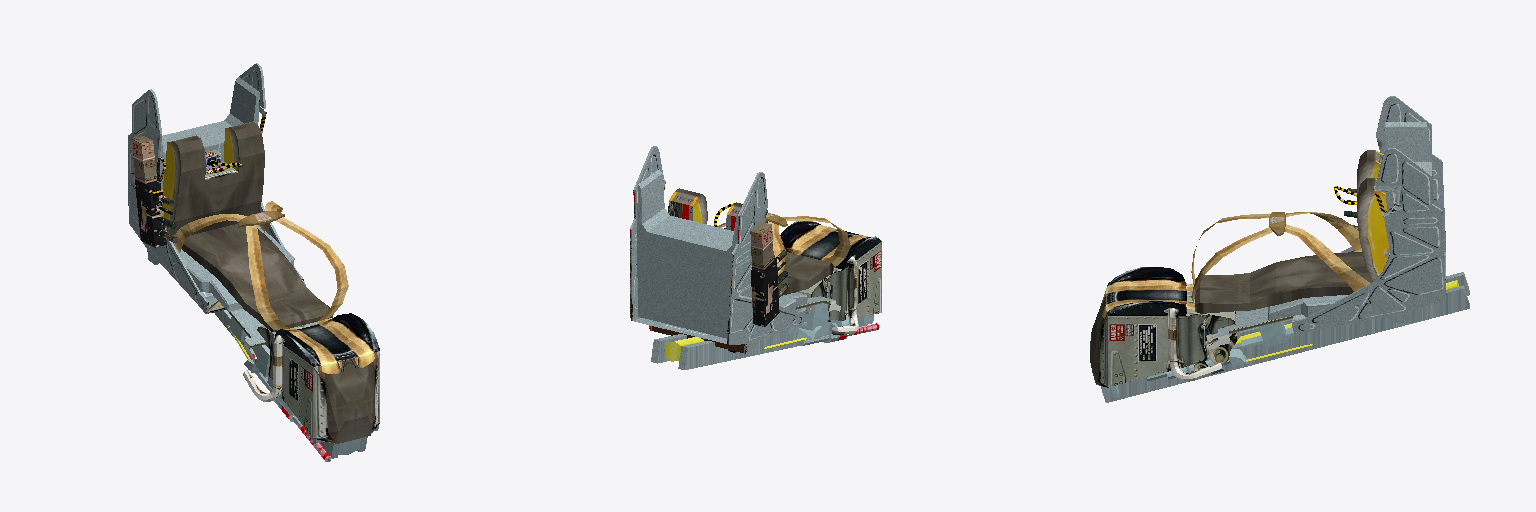
3 renders of one model, left to right at view 1: azimuth 30°, elevation 25°; view 2: azimuth 150°, elevation 25°; view 3: azimuth 270°, elevation 25°, orthographic.
Parts seen in each view (by area): view 1: Box05, Box06, Box01, Box03, Box29, Cylinder17, Box02, Box07, Box10, Box09, Cylinder18, Box04 (+2 smaller); view 2: Box07, Box03, Box04, Box01, Box29, Box11, Box08, Box05, Box10, Box06, Cylinder17, Box09 (+1 smaller); view 3: Box08, Box02, Box06, Box12, Box05, Cylinder18, Box09, Box03, Box04, Box10, Cylinder17, Box07 (+1 smaller).
Boxes of the visible parts, <box> form: Box05: <box>163,135,303,331</box>; Box06: <box>213,122,332,324</box>; Box01: <box>257,326,355,443</box>; Box03: <box>128,89,265,363</box>; Box29: <box>131,136,177,247</box>; Cylinder17: <box>173,213,294,330</box>; Box02: <box>302,321,379,439</box>; Box07: <box>185,77,305,284</box>; Box10: <box>308,313,379,359</box>; Box09: <box>275,327,347,366</box>; Cylinder18: <box>258,201,348,323</box>; Box04: <box>158,120,242,311</box>; Box07: <box>637,169,708,327</box>; Box03: <box>680,172,840,353</box>; Box04: <box>685,210,807,337</box>; Box01: <box>798,242,881,321</box>; Box29: <box>750,221,788,326</box>; Box11: <box>678,320,867,369</box>; Box08: <box>630,146,694,338</box>; Box05: <box>726,202,834,297</box>; Box10: <box>780,221,847,257</box>; Box06: <box>668,188,801,268</box>; Cylinder17: <box>766,213,850,275</box>; Box09: <box>811,232,881,269</box>; Box08: <box>1208,147,1445,351</box>; Box02: <box>1090,300,1239,387</box>; Box06: <box>1195,178,1389,313</box>; Box12: <box>1101,285,1469,402</box>; Box05: <box>1195,150,1383,291</box>; Cylinder18: <box>1186,219,1369,309</box>; Box09: <box>1106,267,1186,298</box>; Box03: <box>1237,96,1445,311</box>; Box04: <box>1385,122,1433,203</box>; Box10: <box>1106,295,1186,315</box>; Cylinder17: <box>1186,212,1361,290</box>; Box07: <box>1268,192,1432,320</box>.
Bounding box in the file's own units: 0.4962 × 1.09 × 1.38.
Materials: 1 (1 with a texture image).